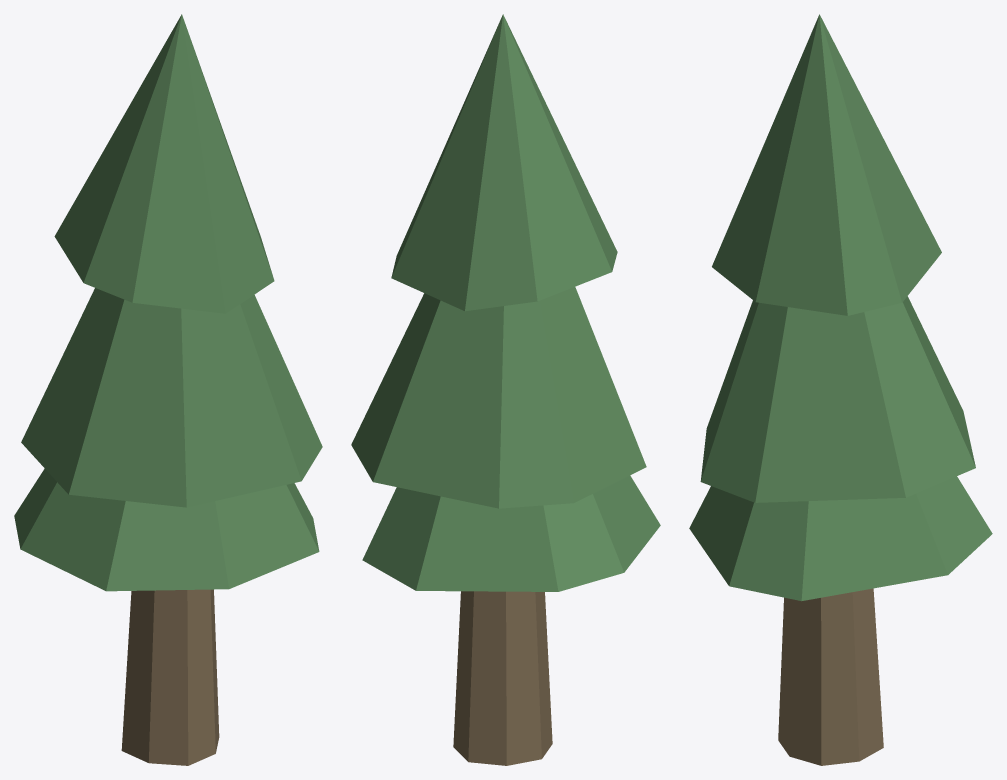
Rendered from Tree2.024.fbx.
3 renders of one model, left to right at view 1: azimuth 30°, elevation 25°; view 2: azimuth 150°, elevation 25°; view 3: azimuth 270°, elevation 25°, orthographic.
Parts seen in each view (by area): view 1: Tree2.024; view 2: Tree2.024; view 3: Tree2.024.
Boxes of the visible parts, box(x1,y1,x2,y2) form: Tree2.024: box(14, 14, 322, 765); Tree2.024: box(351, 14, 660, 765); Tree2.024: box(689, 14, 992, 765).
Size of the model in its own units: 156 by 413 by 155.
